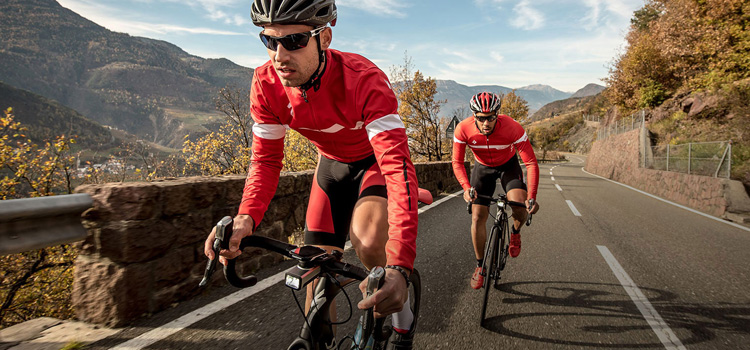helmet: (249, 1, 343, 24), (467, 90, 501, 115)
